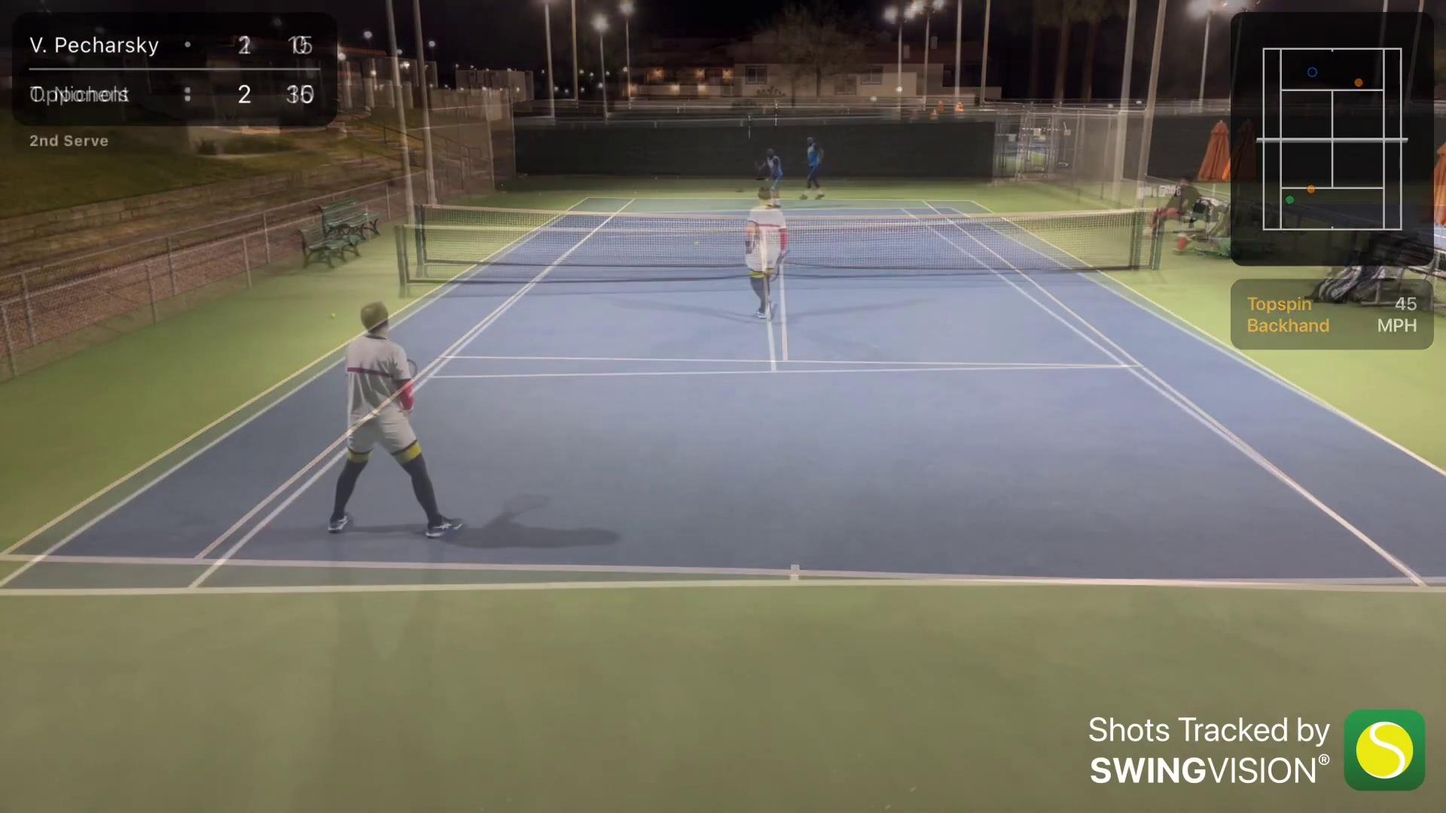ball: (329, 310, 339, 319), (693, 241, 699, 248), (764, 176, 770, 182)
